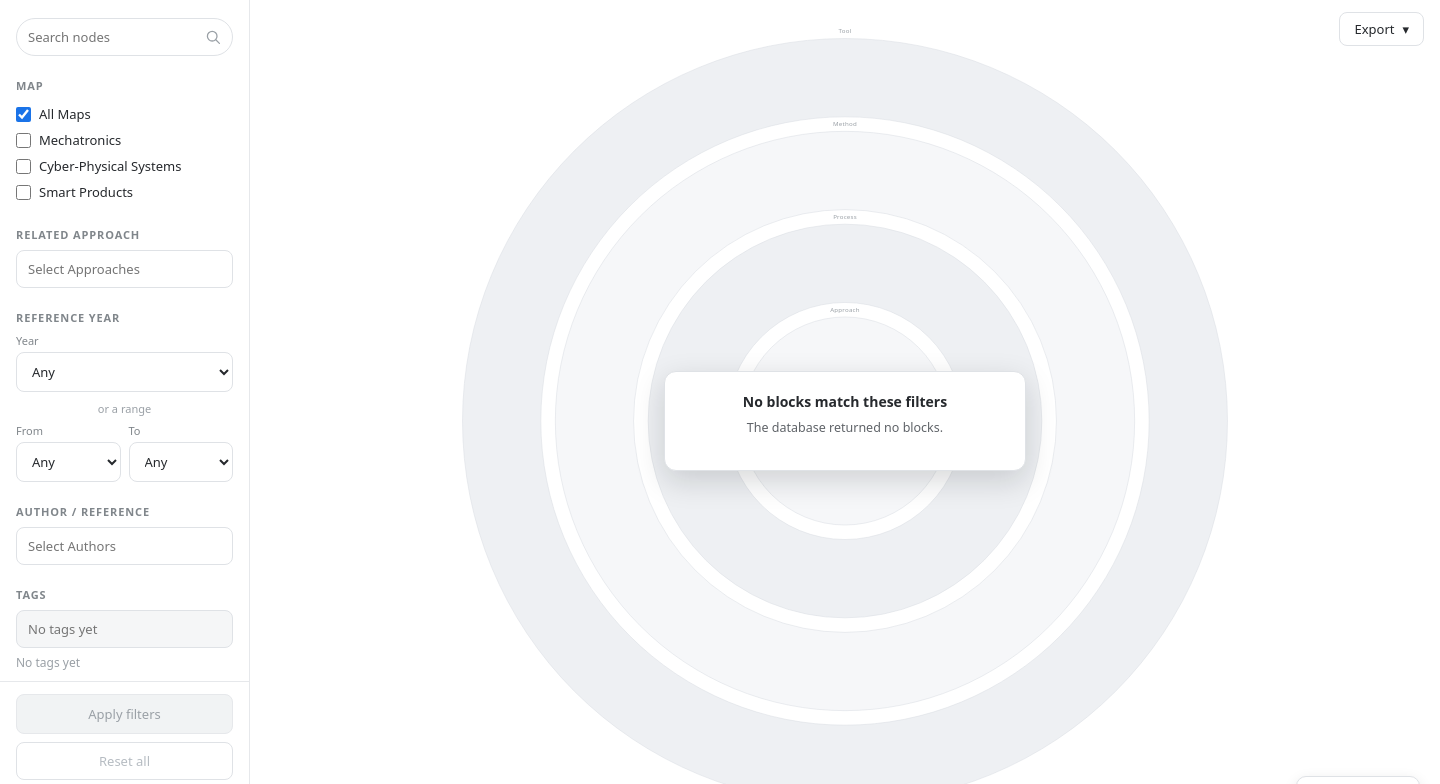
empty result › says nothing matched and offers a reset, without re-fetching the full graph
Narrow the filter so the empty result is attributable to it.
Click the checkbox labelled "Mechatronics" at (24, 140), box [16,132,31,148]
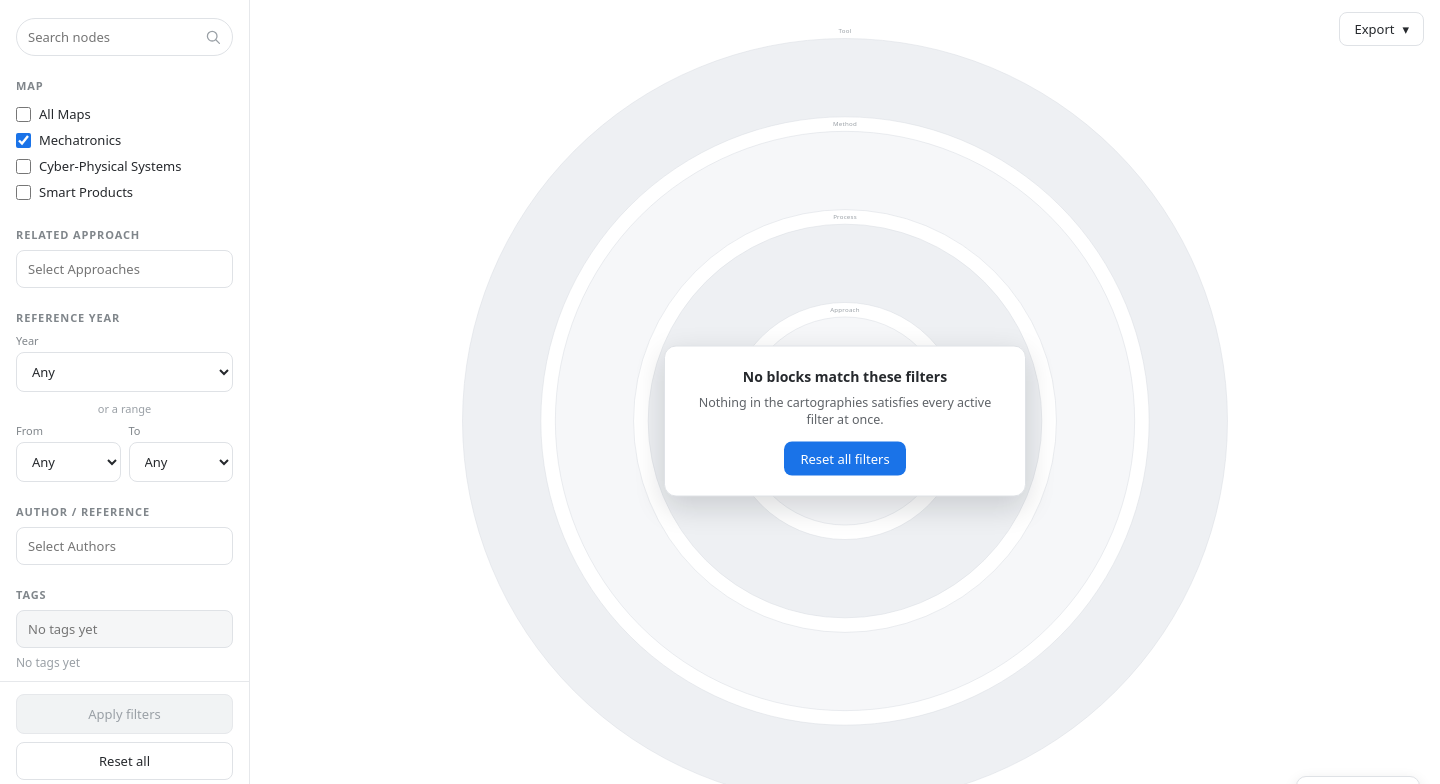
Expected: the heading "No blocks match these filters" is shown, [743,366,947,386]
Expected: the button "Reset all filters" is shown, [784,442,906,476]
